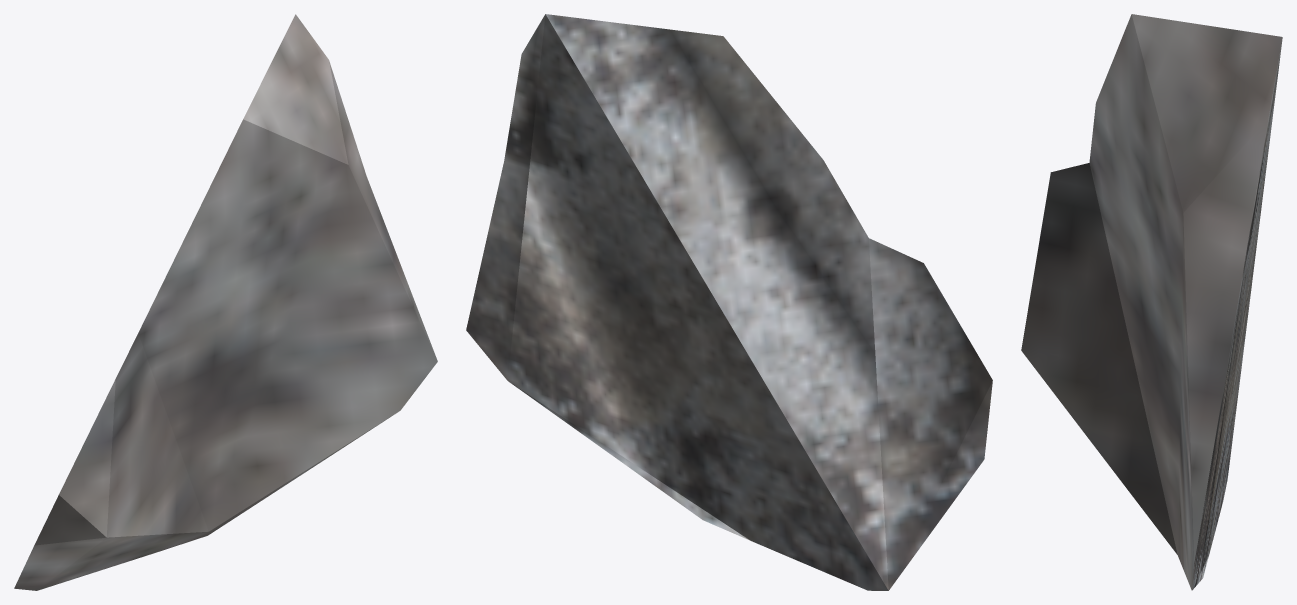
File: Asteroid_Small_001_03_004.fbx
3 renders of one model, left to right at view 1: azimuth 30°, elevation 25°; view 2: azimuth 150°, elevation 25°; view 3: azimuth 270°, elevation 25°, orthographic. The views are drawn at different scales.
Parts seen in each view (by area): view 1: Asteroid_Small_001_03_004; view 2: Asteroid_Small_001_03_004; view 3: Asteroid_Small_001_03_004.
Boxes of the visible parts, left/top/right/bottom form: Asteroid_Small_001_03_004: left=14, top=14, right=437, bottom=590; Asteroid_Small_001_03_004: left=466, top=14, right=992, bottom=590; Asteroid_Small_001_03_004: left=1021, top=14, right=1282, bottom=590.
Bounding box in the file's own units: 4.38 × 4.61 × 1.69.
